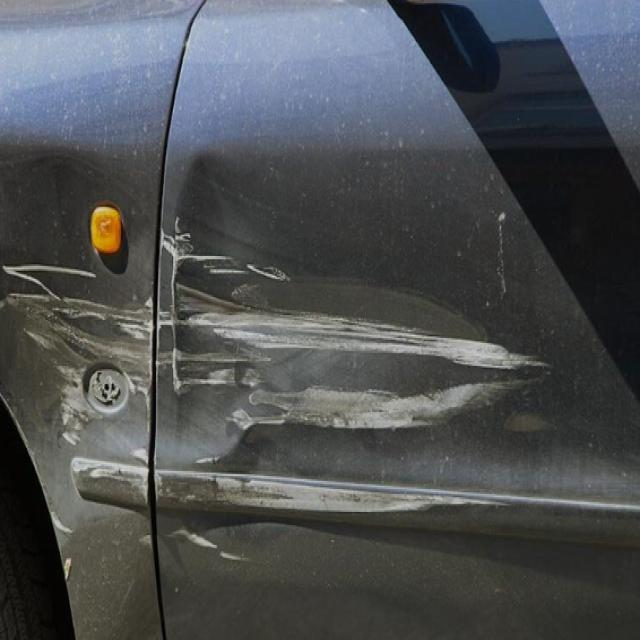Dent: (159, 219, 547, 461), (171, 220, 545, 392), (171, 298, 546, 392), (179, 302, 543, 370), (3, 294, 152, 444), (7, 294, 151, 444), (184, 309, 543, 369), (157, 471, 502, 515), (159, 473, 504, 515), (232, 381, 522, 429), (233, 381, 522, 429), (7, 294, 151, 361), (162, 219, 289, 280), (171, 348, 269, 392), (72, 458, 148, 508), (171, 217, 192, 392), (162, 219, 234, 269), (3, 265, 96, 300), (4, 265, 96, 300), (58, 366, 92, 446), (4, 266, 61, 300), (175, 370, 262, 392), (161, 217, 194, 269), (176, 350, 269, 365), (5, 265, 96, 278), (177, 370, 235, 390), (55, 301, 118, 319), (230, 409, 286, 429), (168, 527, 218, 549), (169, 527, 217, 549), (169, 529, 217, 549), (505, 414, 552, 433), (174, 217, 193, 257), (247, 265, 289, 282), (498, 212, 506, 297), (25, 330, 54, 349), (118, 322, 150, 339), (50, 511, 73, 534), (180, 253, 234, 262), (161, 230, 176, 257), (89, 467, 122, 479), (188, 255, 234, 262), (62, 430, 80, 446), (207, 268, 246, 275), (132, 448, 148, 464), (220, 552, 248, 561), (158, 311, 171, 326), (64, 558, 72, 580), (196, 457, 220, 464), (140, 535, 151, 548), (144, 296, 153, 311), (159, 317, 171, 328), (0, 299, 6, 310)
